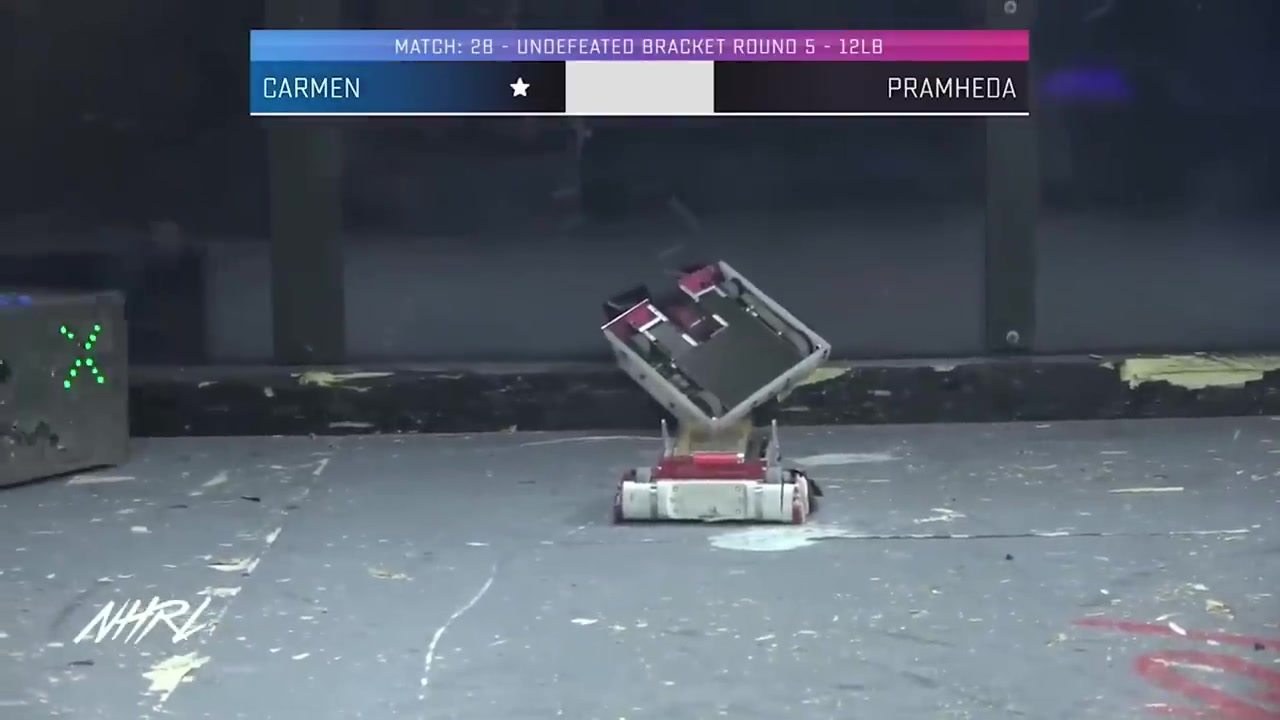combatbot: (597, 260, 832, 430), (610, 420, 825, 529)
housebot: (0, 288, 129, 496)
